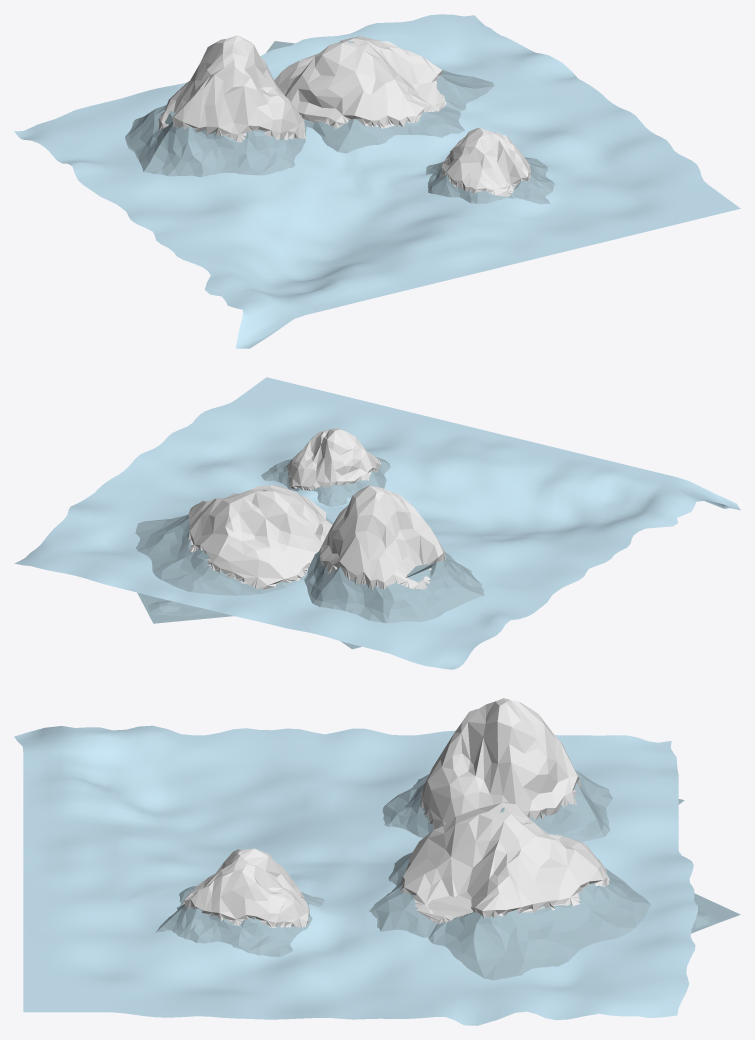
Rendered from winter_terrain_2.fbx.
3 views of the same model, one above another, from view 1: azimuth 30°, elevation 25°; view 2: azimuth 150°, elevation 25°; view 3: azimuth 270°, elevation 25° (orthographic). The views are drawn at different scales.
Parts seen in each view (by area): view 1: terrain, Polygon_Reduction_2_2, Polygon_Reduction_2_6, Polygon_Reduction_2, Polygon_Reduction_2_5, Polygon_Reduction_2_4, Polygon_Reduction_2_3; view 2: terrain, Polygon_Reduction_2_6, Polygon_Reduction_2_2, Polygon_Reduction_2, Polygon_Reduction_2_5, Polygon_Reduction_2_4, Polygon_Reduction_2_3; view 3: terrain, Polygon_Reduction_2_6, Polygon_Reduction_2_5, Polygon_Reduction_2_2, Polygon_Reduction_2_4, Polygon_Reduction_2, Polygon_Reduction_2_3.
Part boxes in pixels (box(x1,y1,x2,y2)): terrain: box(14, 14, 740, 348); Polygon_Reduction_2_2: box(139, 35, 305, 175); Polygon_Reduction_2_6: box(274, 36, 465, 134); Polygon_Reduction_2: box(125, 104, 306, 177); Polygon_Reduction_2_5: box(266, 41, 494, 153); Polygon_Reduction_2_4: box(426, 128, 548, 203); Polygon_Reduction_2_3: box(426, 158, 555, 204); terrain: box(14, 377, 740, 669); Polygon_Reduction_2_6: box(138, 485, 332, 595); Polygon_Reduction_2_2: box(306, 485, 478, 642); Polygon_Reduction_2: box(304, 550, 484, 649); Polygon_Reduction_2_5: box(135, 489, 333, 623); Polygon_Reduction_2_4: box(262, 428, 384, 504); Polygon_Reduction_2_3: box(261, 457, 390, 506); terrain: box(14, 725, 697, 1025); Polygon_Reduction_2_6: box(369, 802, 641, 943); Polygon_Reduction_2_5: box(331, 807, 740, 980); Polygon_Reduction_2_2: box(382, 698, 683, 839); Polygon_Reduction_2_4: box(170, 848, 310, 956); Polygon_Reduction_2: box(383, 770, 684, 841); Polygon_Reduction_2_3: box(155, 886, 324, 956).
Bounding box in the file's own units: 11234 × 2538 × 11096.
